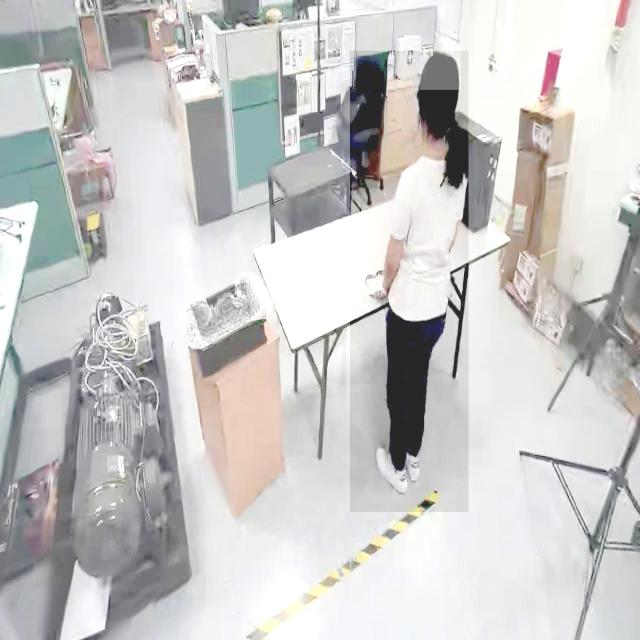head_nohelmet: (419, 49, 461, 91)
person: (349, 51, 468, 513)
shoes: (374, 438, 409, 494), (396, 434, 426, 482)
